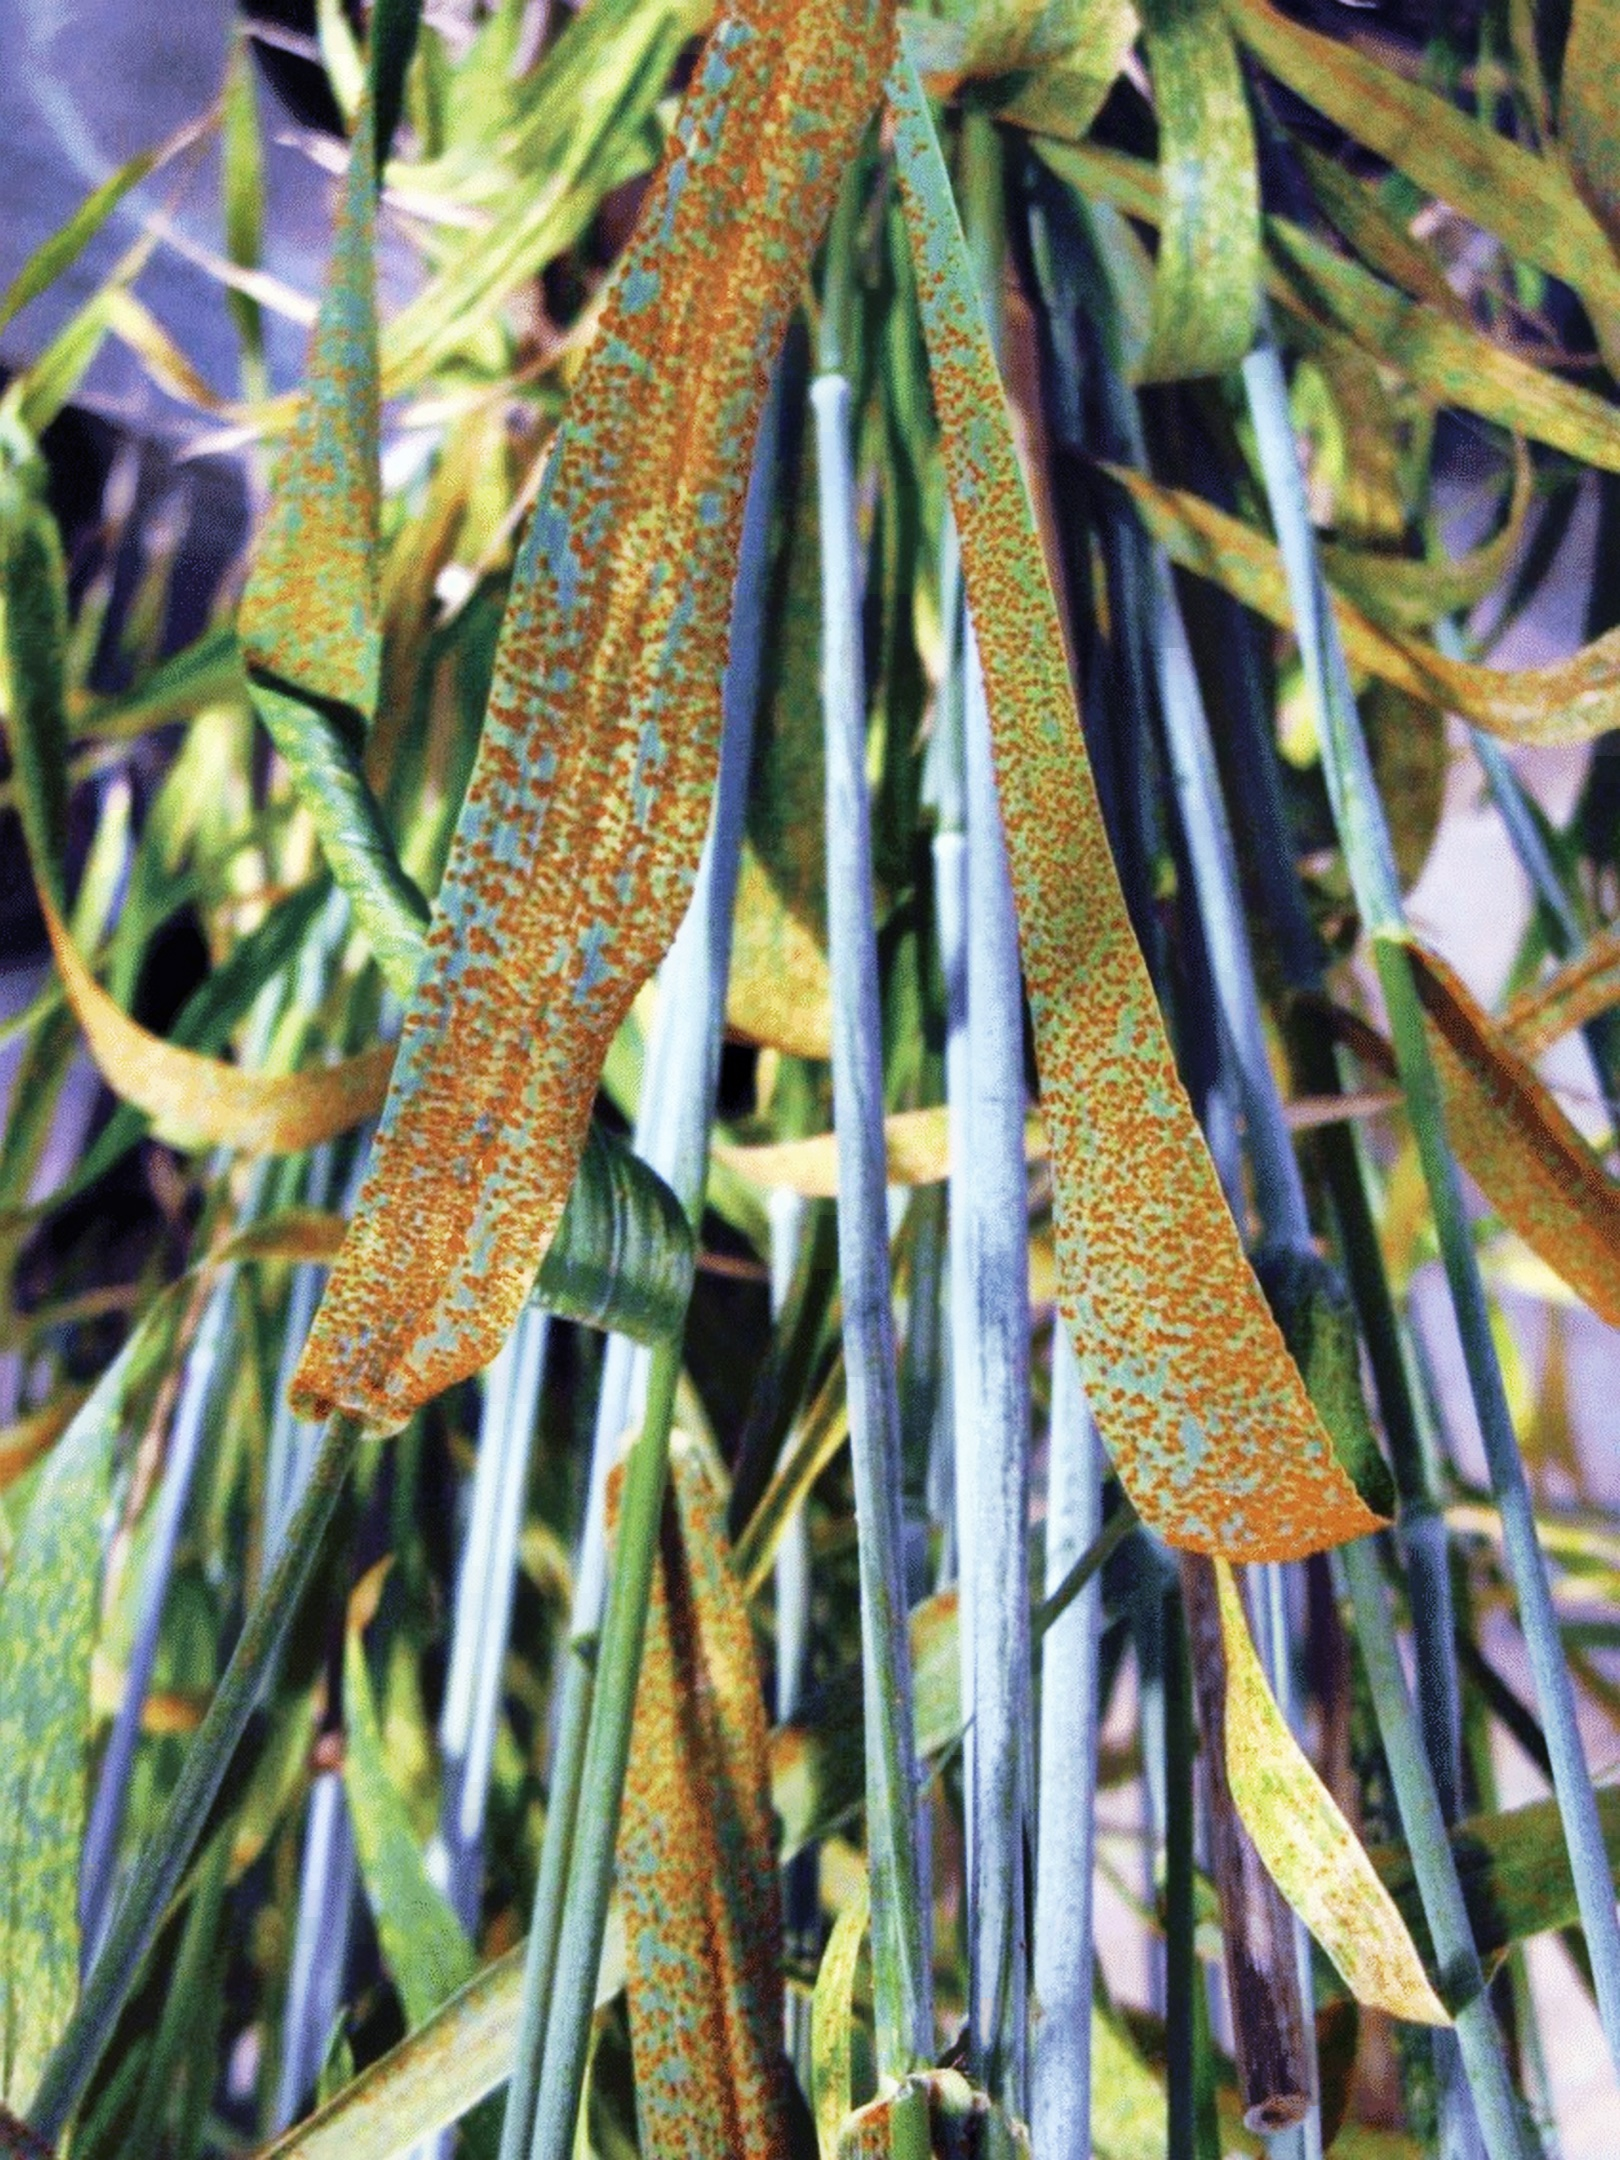Leaf Rust: (317, 19, 870, 1415), (931, 383, 1361, 1561)
